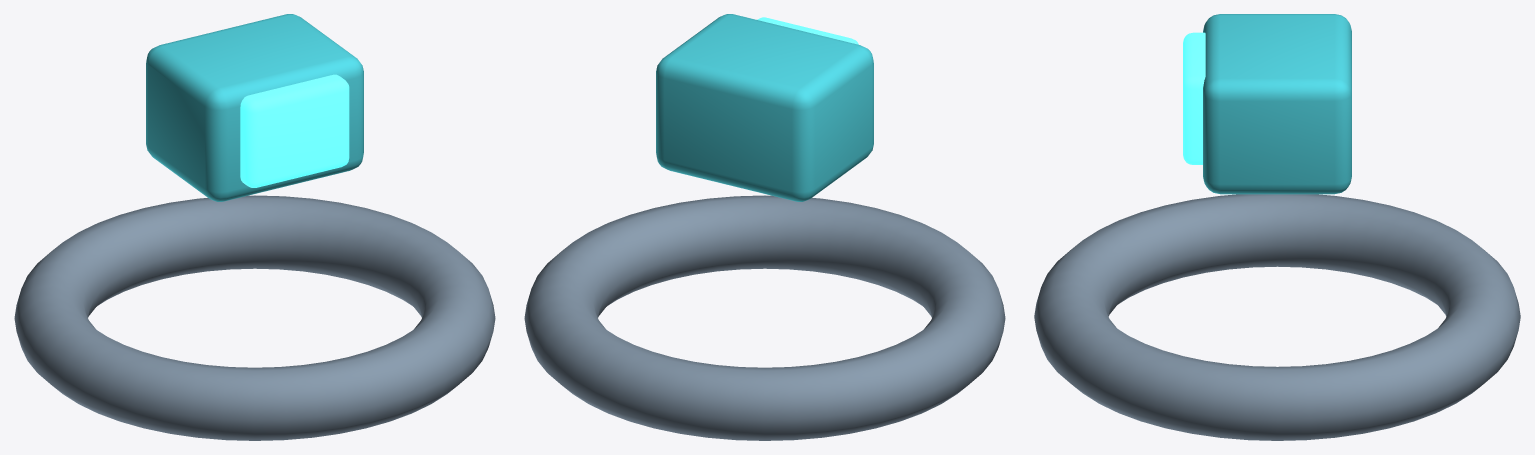
Rendered from ring_v6.glb.
3 views of the same model, side by side, from view 1: azimuth 30°, elevation 25°; view 2: azimuth 150°, elevation 25°; view 3: azimuth 270°, elevation 25° (orthographic).
Parts seen in each view (by area): view 1: RING_SHANK_PRIMARY, SQUARE_SETTING_ACCENT, TABLE_CUT_STONE_EMISSIVE; view 2: RING_SHANK_PRIMARY, SQUARE_SETTING_ACCENT, TABLE_CUT_STONE_EMISSIVE; view 3: RING_SHANK_PRIMARY, SQUARE_SETTING_ACCENT, TABLE_CUT_STONE_EMISSIVE.
Boxes of the visible parts, left/top/right/bottom form: RING_SHANK_PRIMARY: left=14, top=195, right=495, bottom=440; SQUARE_SETTING_ACCENT: left=146, top=14, right=363, bottom=201; TABLE_CUT_STONE_EMISSIVE: left=240, top=74, right=349, bottom=187; RING_SHANK_PRIMARY: left=524, top=195, right=1005, bottom=440; SQUARE_SETTING_ACCENT: left=656, top=14, right=873, bottom=201; TABLE_CUT_STONE_EMISSIVE: left=757, top=17, right=858, bottom=44; RING_SHANK_PRIMARY: left=1034, top=194, right=1520, bottom=440; SQUARE_SETTING_ACCENT: left=1203, top=14, right=1351, bottom=194; TABLE_CUT_STONE_EMISSIVE: left=1183, top=32, right=1205, bottom=164.
Size of the model in its own units: 1.7 by 1.17 by 1.7.
